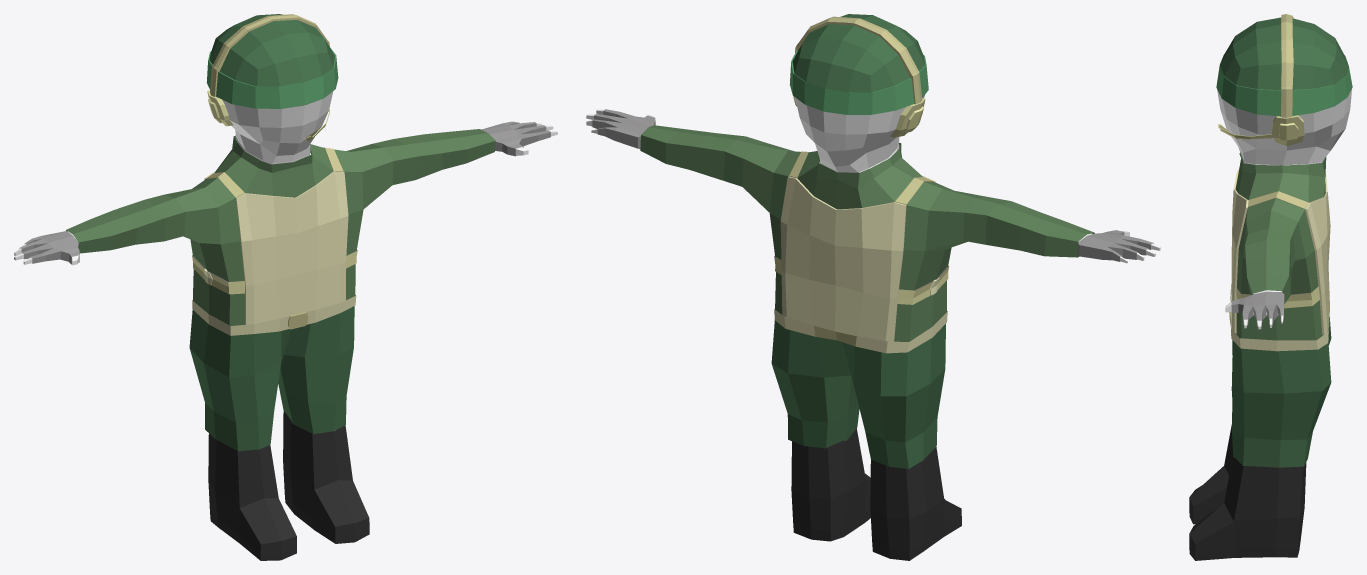
The model's file is Sniper.fbx.
The picture shows the model from 3 angles, left to right: view 1: azimuth 30°, elevation 25°; view 2: azimuth 150°, elevation 25°; view 3: azimuth 270°, elevation 25°; orthographic projection. The views are drawn at different scales.
Visible parts, largest first — view 1: Cube.002, Cube.004, Cube.009, Cube.007, Cube.001, Cube, Cube.003, Cube.013, Cube.006, Cube.012; view 2: Cube.002, Cube.004, Cube.011, Cube.009, Cube.001, Cube, Cube.003, Cube.013, Cube.006, Cube.012, Cube.005; view 3: Cube.002, Cube.004, Cube.009, Cube.001, Cube, Cube.011, Cube.003, Cube.006, Cube.007, Cube.013, Cube.005, Cube.012 (+2 smaller).
Boxes of the visible parts, x1,y1,x2,y2 form: Cube.002: (66, 129, 495, 325); Cube.004: (189, 296, 354, 451); Cube.009: (208, 410, 369, 560); Cube.007: (235, 171, 348, 324); Cube.001: (206, 14, 338, 108); Cube: (14, 91, 557, 265); Cube.003: (20, 121, 550, 264); Cube.013: (192, 295, 356, 335); Cube.006: (210, 14, 329, 96); Cube.012: (192, 250, 357, 294); Cube.002: (640, 125, 1094, 341); Cube.004: (771, 310, 945, 468); Cube.011: (780, 176, 906, 341); Cube.009: (791, 428, 961, 560); Cube.001: (789, 14, 928, 114); Cube: (586, 95, 1160, 263); Cube.003: (592, 109, 1153, 261); Cube.013: (774, 309, 947, 353); Cube.006: (795, 16, 922, 104); Cube.012: (774, 256, 949, 304); Cube.005: (793, 96, 925, 137); Cube.002: (1235, 152, 1326, 340); Cube.004: (1231, 317, 1331, 467); Cube.009: (1189, 424, 1306, 560); Cube.001: (1216, 17, 1352, 116); Cube: (1217, 89, 1351, 457); Cube.011: (1305, 174, 1330, 335); Cube.003: (1231, 291, 1284, 325); Cube.006: (1281, 14, 1293, 117); Cube.007: (1231, 168, 1248, 333); Cube.013: (1229, 284, 1329, 351); Cube.005: (1272, 115, 1304, 145); Cube.012: (1236, 286, 1319, 308).
Bounding box in the file's own units: 655 × 584 × 168.
